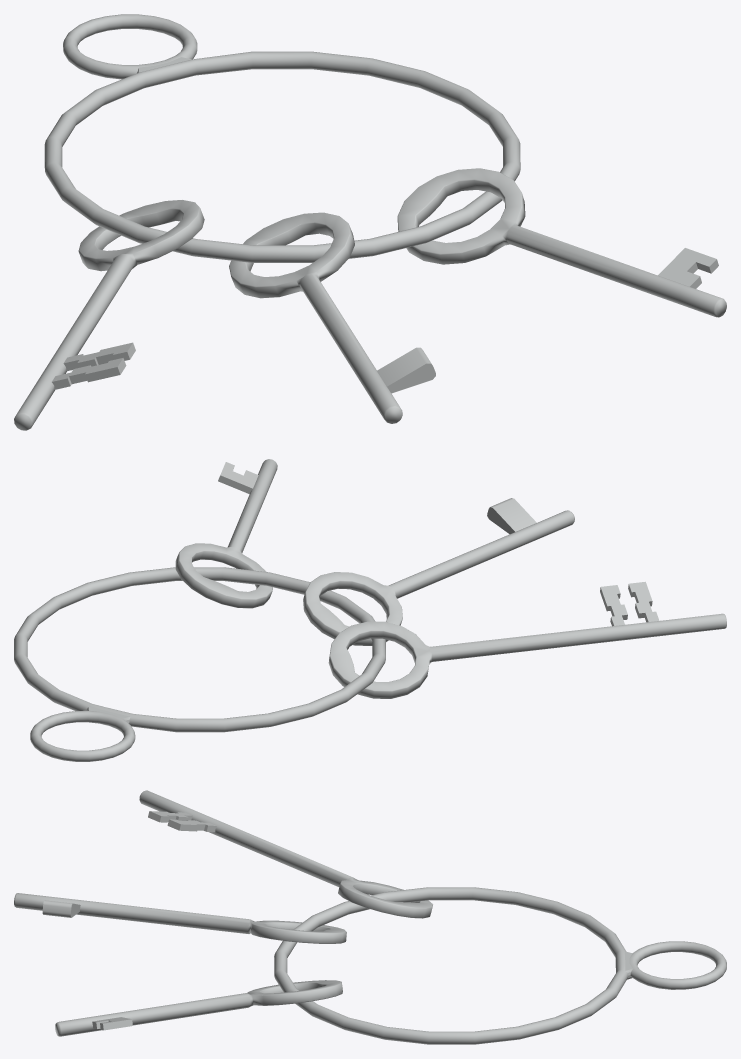
Rendered from Keys.fbx.
The picture shows the model from 3 angles, top to bottom: view 1: azimuth 30°, elevation 25°; view 2: azimuth 150°, elevation 25°; view 3: azimuth 270°, elevation 25°; orthographic projection. The views are drawn at different scales.
Parts seen in each view (by area): view 1: Key RingLow, Key3Low, Key1Low, Key2Low; view 2: Key RingLow, Key1Low, Key2Low, Key3Low; view 3: Key RingLow, Key1Low, Key2Low, Key3Low.
Part boxes in pixels (bbox=[...]): Key RingLow: bbox=[44, 14, 520, 262]; Key3Low: bbox=[397, 168, 726, 317]; Key1Low: bbox=[14, 200, 204, 430]; Key2Low: bbox=[229, 212, 435, 423]; Key RingLow: bbox=[14, 567, 385, 761]; Key1Low: bbox=[328, 581, 726, 698]; Key2Low: bbox=[303, 498, 574, 645]; Key3Low: bbox=[175, 459, 277, 608]; Key RingLow: bbox=[274, 887, 726, 1044]; Key1Low: bbox=[139, 790, 432, 918]; Key2Low: bbox=[14, 893, 346, 943]; Key3Low: bbox=[55, 980, 342, 1036].
Size of the model in its own units: 0.1972 by 0.0153 by 0.2412.
